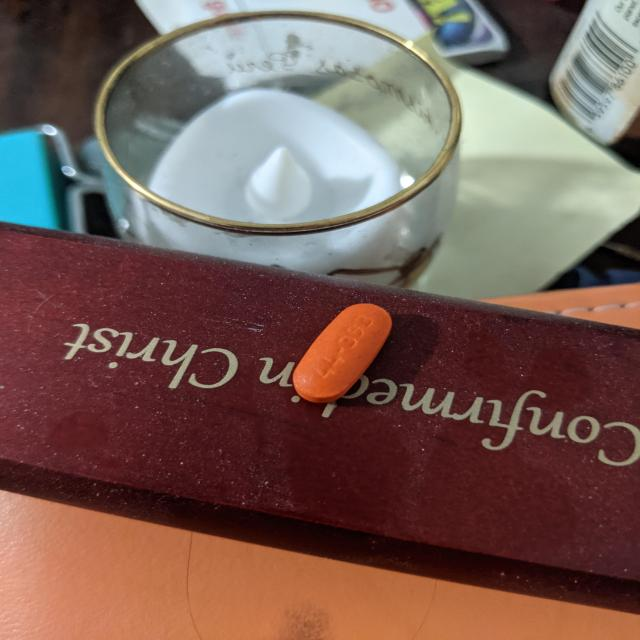non-organic waste: (292, 302, 393, 403)
